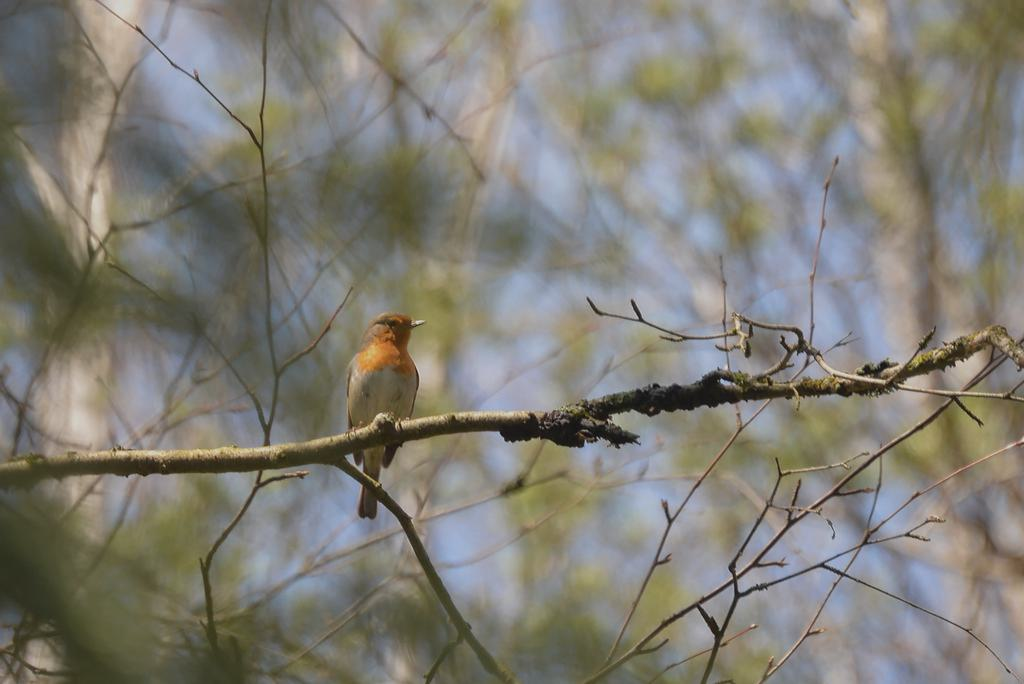ErithacusRubecula: (346, 311, 427, 520)
